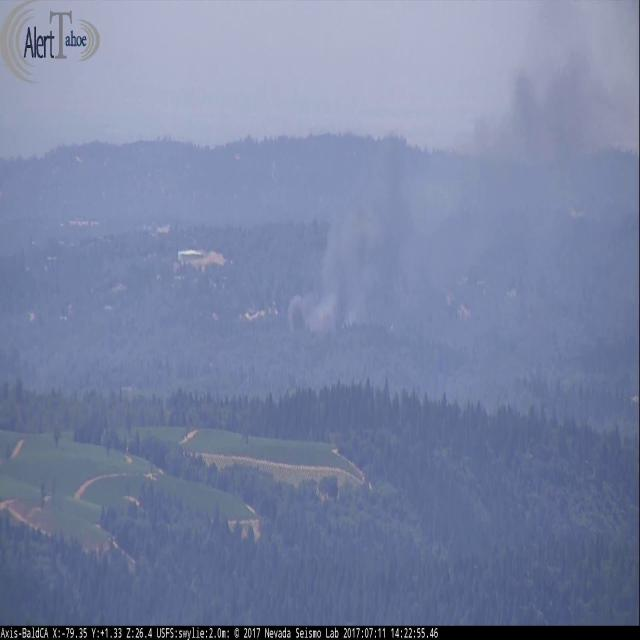smoke: (283, 14, 624, 352)
